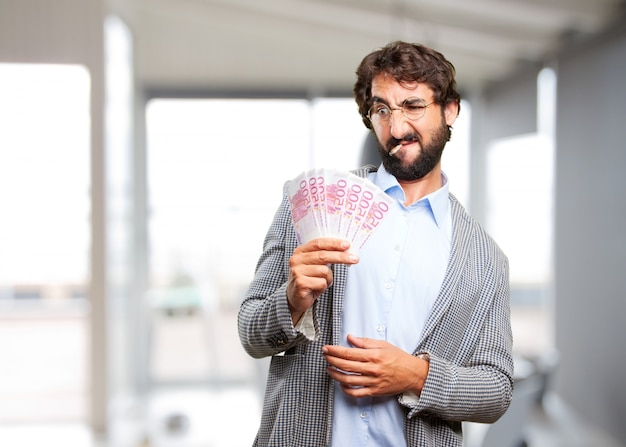cigarette: (388, 142, 402, 157)
